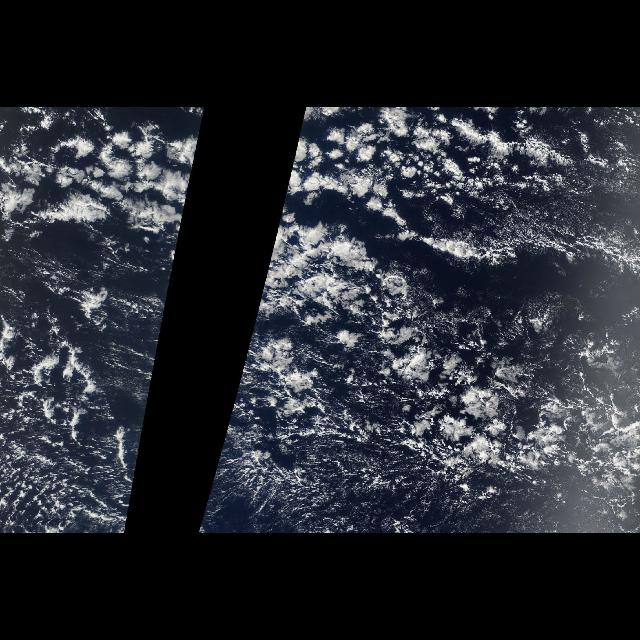Flower: (274, 107, 498, 239), (2, 107, 206, 239)
Gravel: (0, 324, 136, 534)
Sugar: (224, 464, 632, 528), (500, 158, 640, 266)
